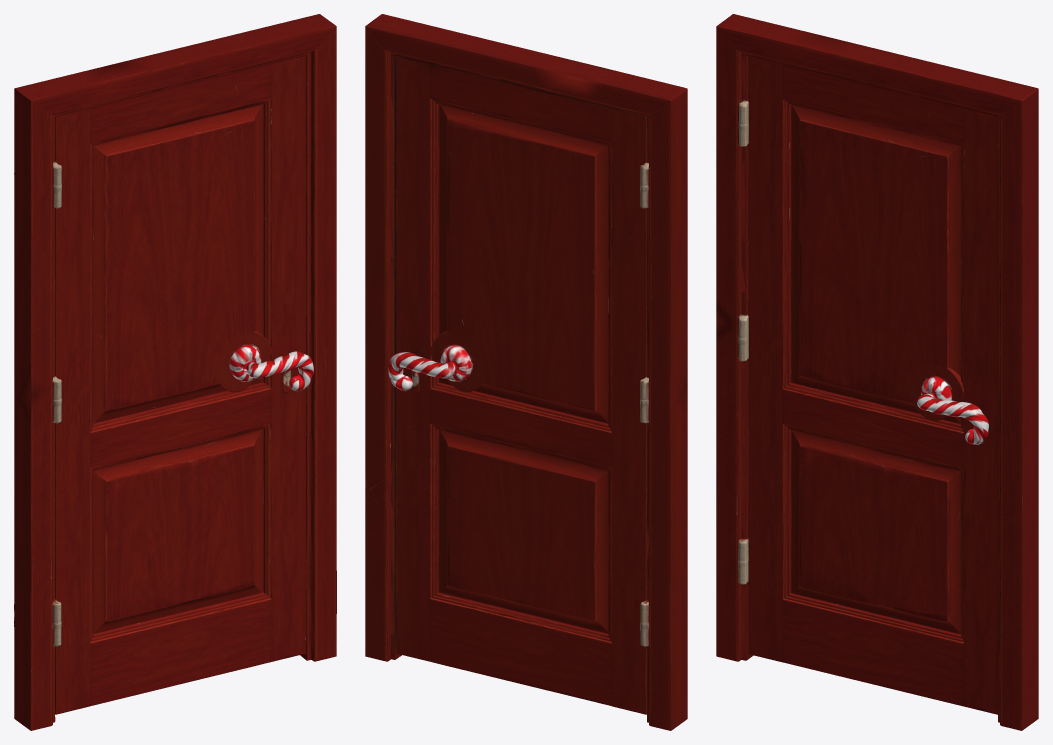
File: door.glb
3 views of the same model, side by side, from view 1: azimuth 30°, elevation 25°; view 2: azimuth 150°, elevation 25°; view 3: azimuth 330°, elevation 25° (orthographic).
Bounding box in the file's own units: 0.9669 × 1.9 × 0.2353.
Materials: 1 (1 with a texture image).
